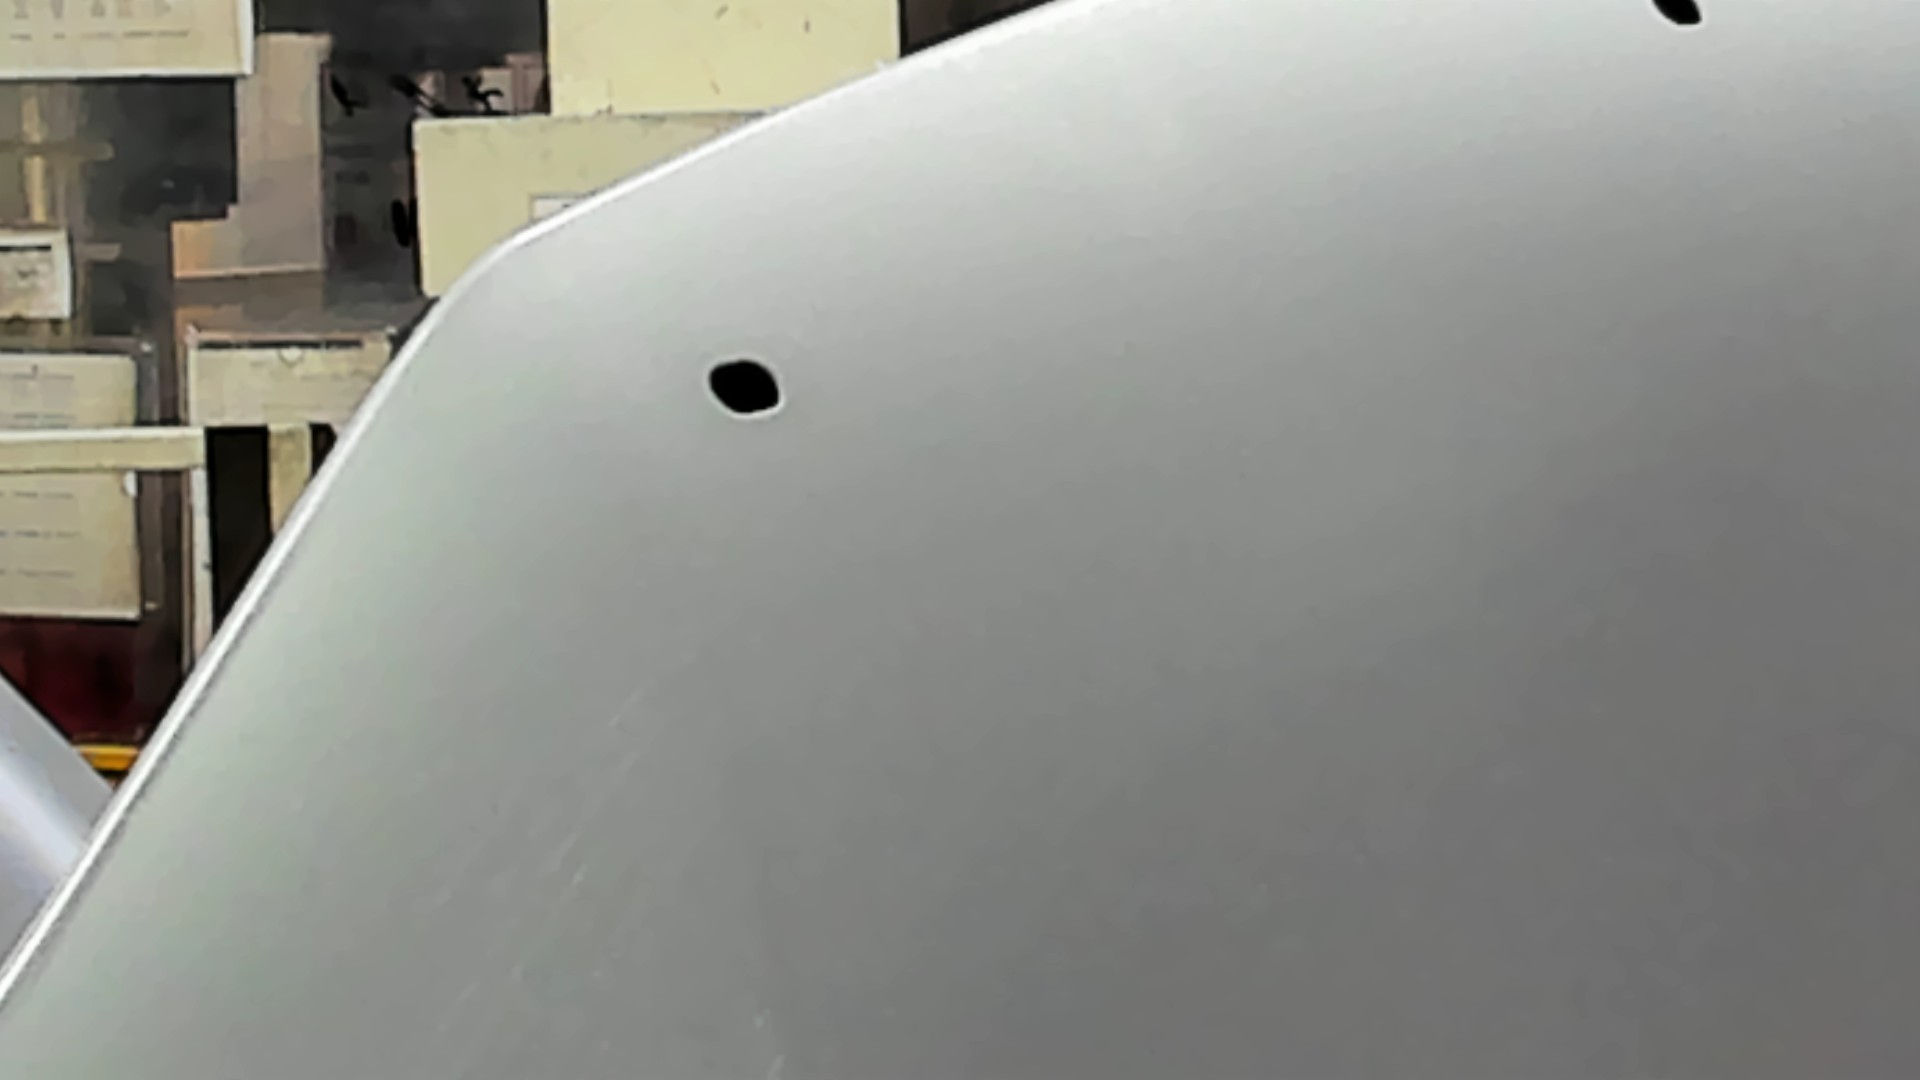amorfo: (700, 355, 789, 419), (1648, 1, 1712, 29)
